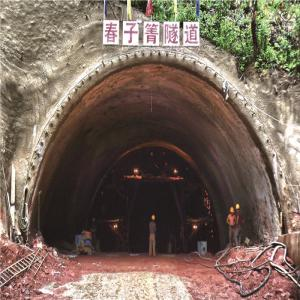yellow: (231, 206, 236, 216), (236, 204, 241, 213), (152, 215, 156, 223)
